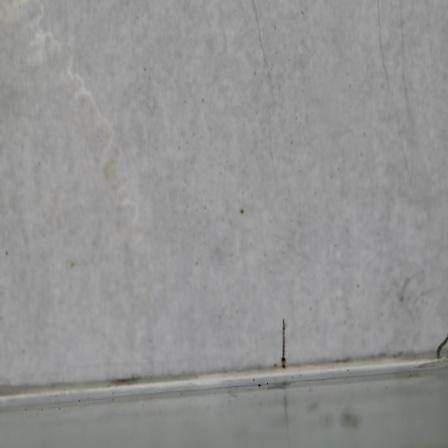Jentik-Nyamuk: (274, 316, 293, 371)
